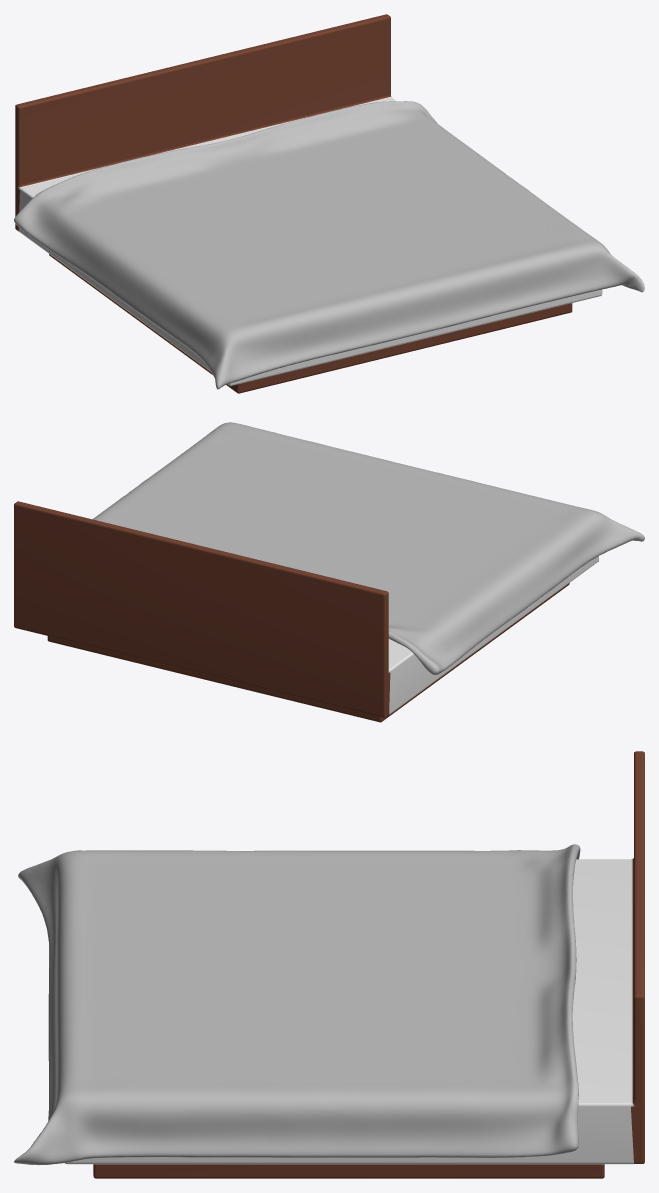
File: bed.gltf
The picture shows the model from 3 angles, top to bottom: view 1: azimuth 30°, elevation 25°; view 2: azimuth 150°, elevation 25°; view 3: azimuth 270°, elevation 25°; orthographic projection. The views are drawn at different scales.
Parts seen in each view (by area): view 1: sheet, Cube.004; view 2: sheet, Cube.004; view 3: sheet, Cube.004.
Boxes of the visible parts, x1,y1,x2,y2 form: sheet: [14, 101, 644, 389]; Cube.004: [15, 14, 602, 393]; sheet: [92, 422, 644, 674]; Cube.004: [14, 501, 598, 722]; sheet: [14, 844, 580, 1165]; Cube.004: [65, 751, 644, 1178].
Size of the model in its own units: 3.01 by 0.9758 by 2.86.
